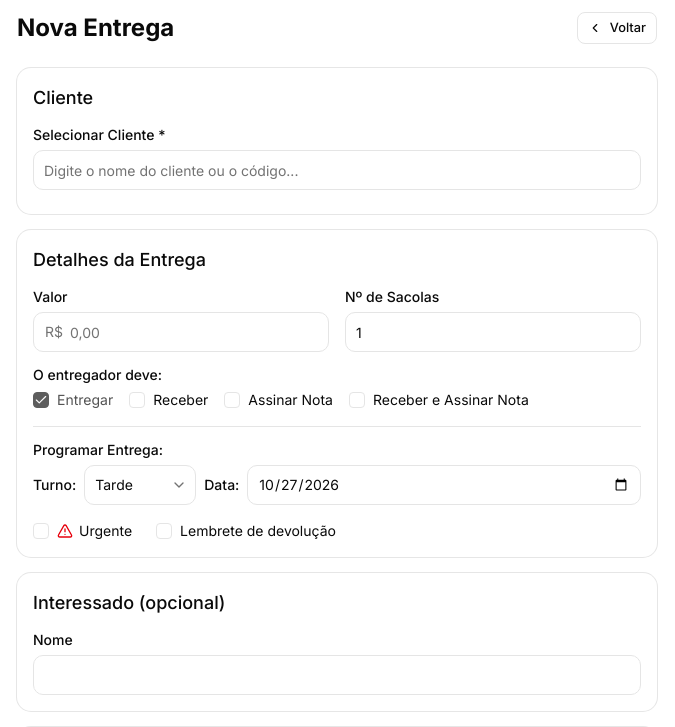
Test case: NovaEntregaForm › warns and links to the cliente page when there are no addresses
In the field with placeholder "Digite o nome do cliente ou o código...": point(337, 170) [33,150,641,190], type "Bruno Sem Endereço"
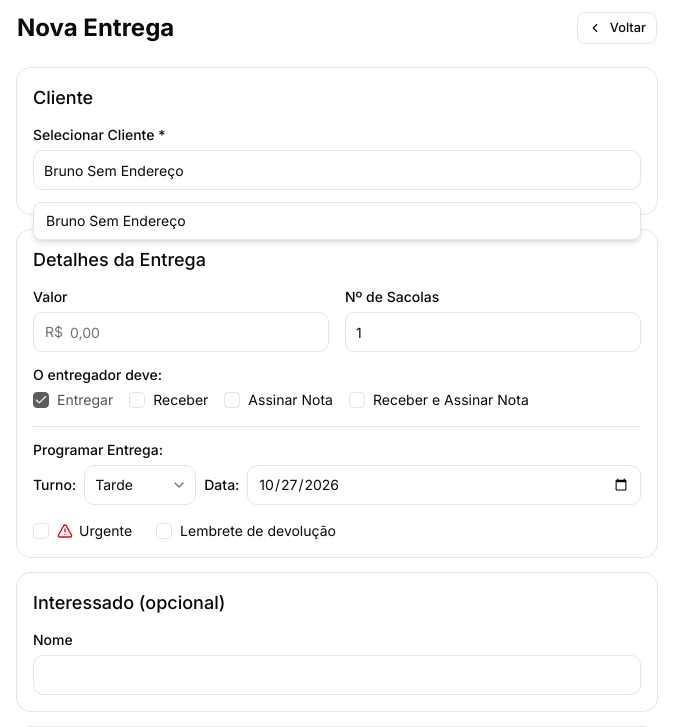
Click the button "Bruno Sem Endereço": point(116, 220) [34,203,640,239]
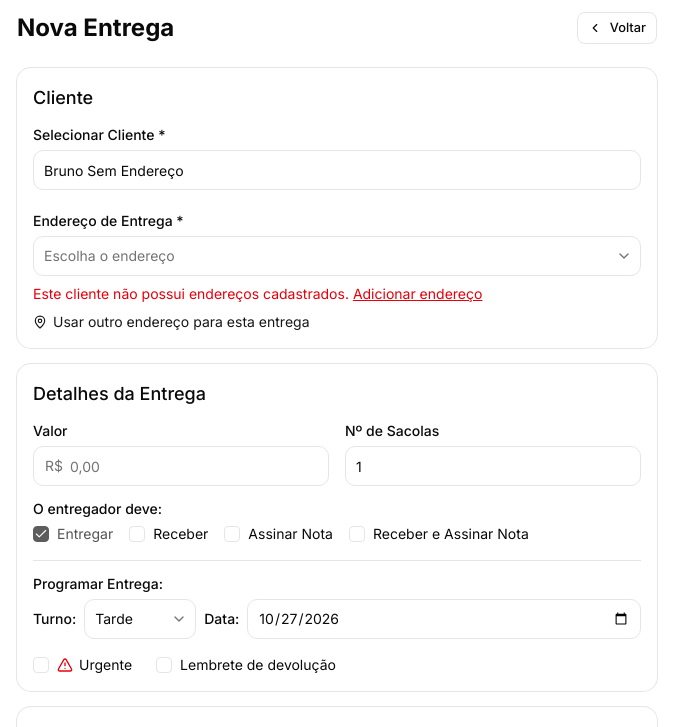
Now the text "Este cliente não possui endereços cadastrados" is shown, box [33,285,349,302]
